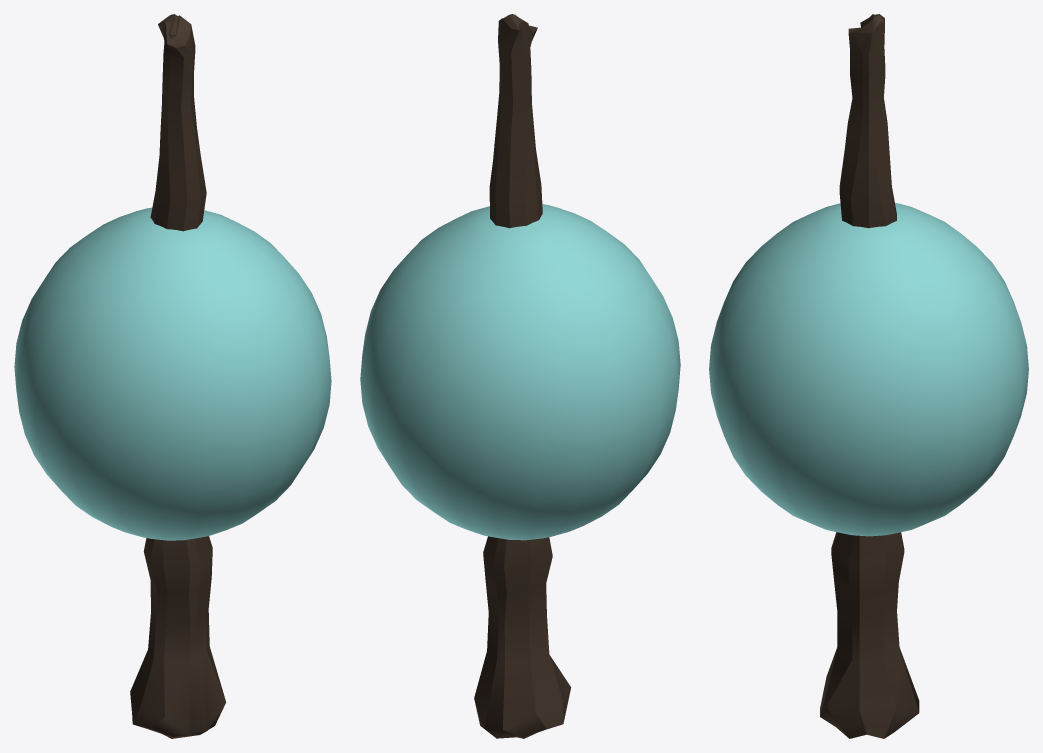
File: barita.fbx
The picture shows the model from 3 angles, left to right: view 1: azimuth 30°, elevation 25°; view 2: azimuth 150°, elevation 25°; view 3: azimuth 270°, elevation 25°; orthographic projection.
Parts seen in each view (by area): view 1: pSphere1, pCylinder2, pCylinder1; view 2: pSphere1, pCylinder2, pCylinder1; view 3: pSphere1, pCylinder2, pCylinder1.
Boxes of the visible parts, bbox=[...] form: pSphere1: bbox=[14, 207, 331, 540]; pCylinder2: bbox=[130, 536, 226, 738]; pCylinder1: bbox=[150, 14, 206, 231]; pSphere1: bbox=[360, 204, 680, 540]; pCylinder2: bbox=[474, 536, 571, 738]; pCylinder1: bbox=[489, 14, 542, 228]; pSphere1: bbox=[709, 203, 1028, 536]; pCylinder2: bbox=[820, 532, 919, 738]; pCylinder1: bbox=[839, 14, 896, 228].
Size of the model in its own units: 3 by 7.38 by 3.
